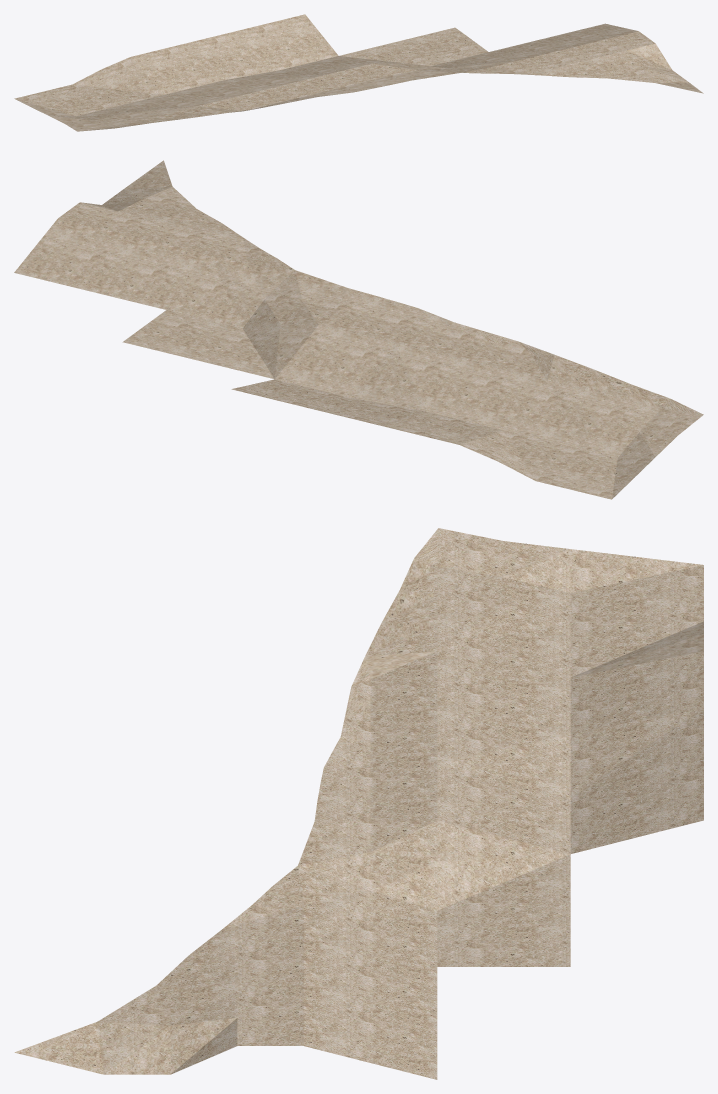
File: sbcne_seafloor03.obj
3 renders of one model, top to bottom at view 1: azimuth 30°, elevation 25°; view 2: azimuth 150°, elevation 25°; view 3: azimuth 270°, elevation 25°, orthographic. The views are drawn at different scales.
Parts seen in each view (by area): view 1: sbcne_seafloor03; view 2: sbcne_seafloor03; view 3: sbcne_seafloor03.
Part boxes in pixels (box(x1,y1,x2,y2)): sbcne_seafloor03: box(14, 14, 703, 131); sbcne_seafloor03: box(14, 160, 703, 499); sbcne_seafloor03: box(14, 528, 703, 1079).
Size of the model in its own units: 448 by 16.64 by 256.
